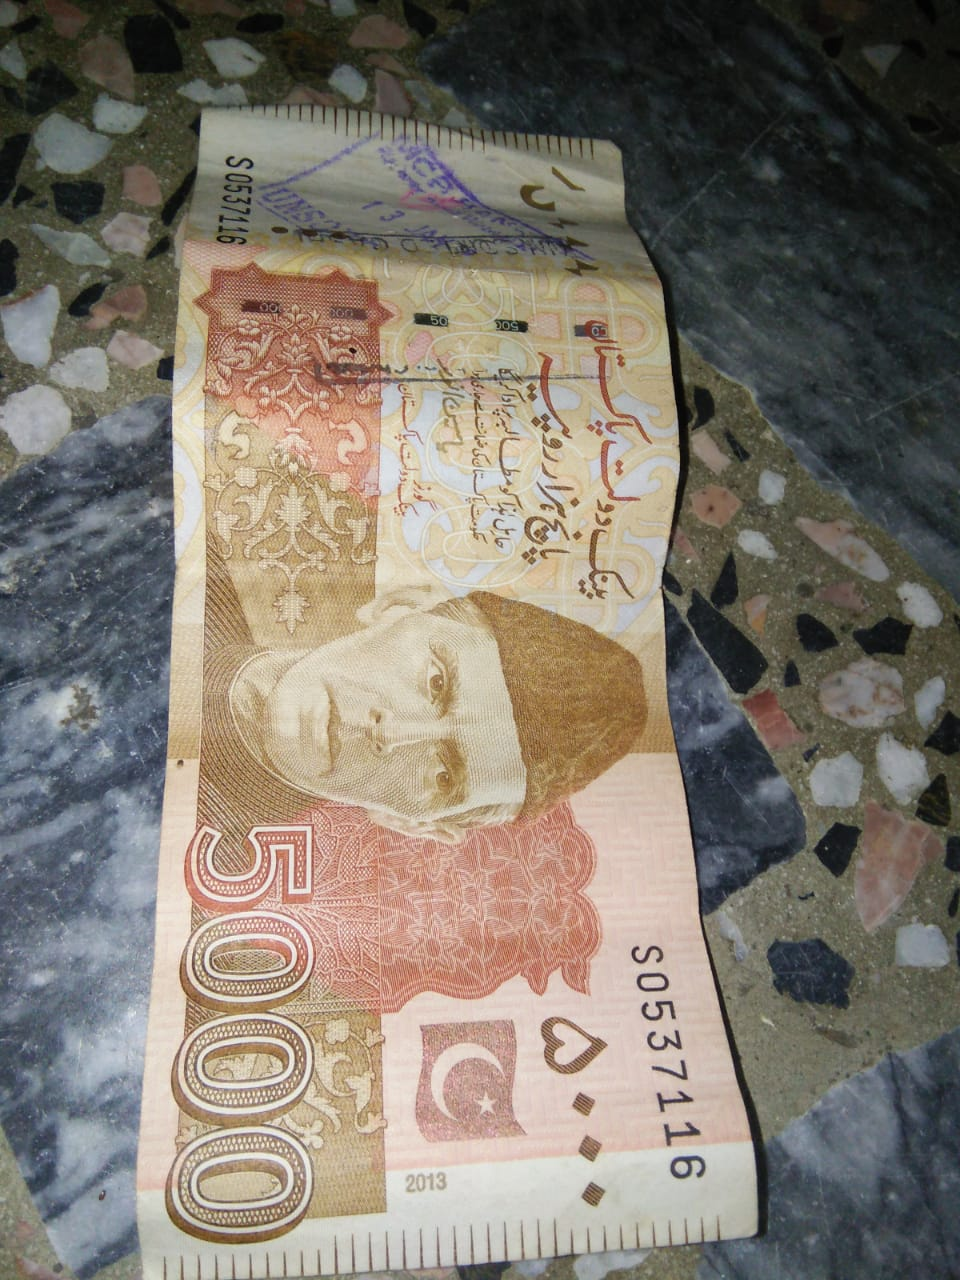5000 rupee: (123, 87, 785, 1266)
